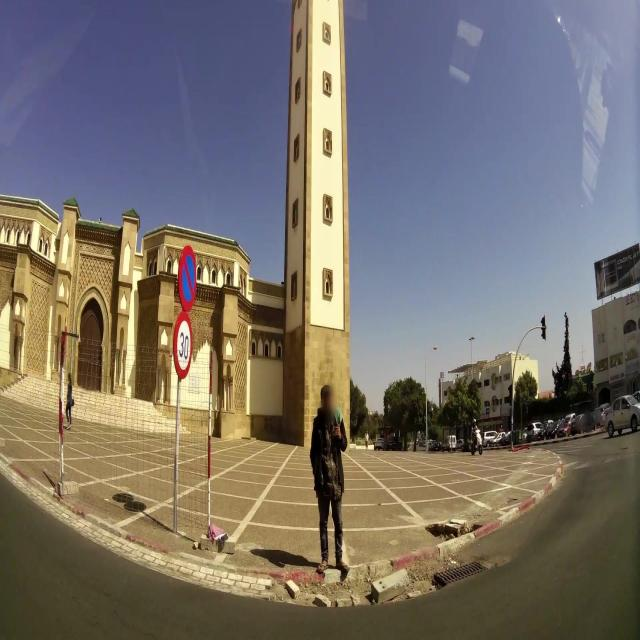forb_stopping: (180, 251, 196, 305)
